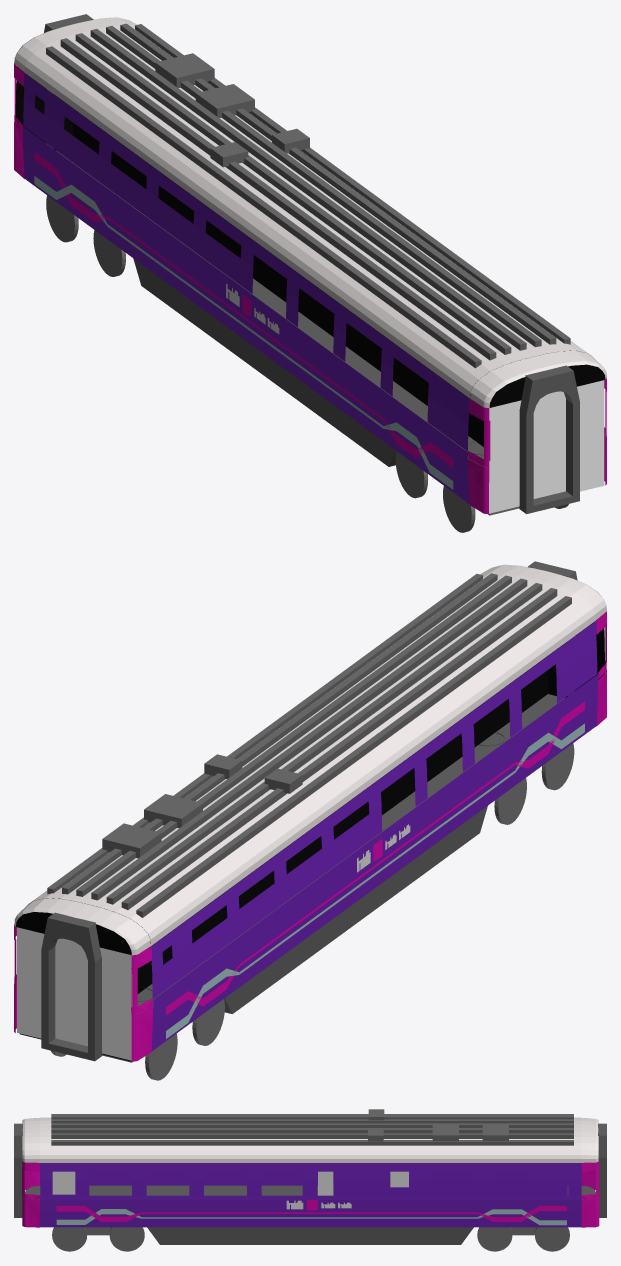
The model's file is br-mk3-trb-fgw3.dae.
3 renders of one model, top to bottom at view 1: azimuth 30°, elevation 25°; view 2: azimuth 150°, elevation 25°; view 3: azimuth 270°, elevation 25°, orthographic. The views are drawn at different scales.
Parts seen in each view (by area): view 1: Suzanne_001, Plane_007, Plane_001, Plane_111, Cube, Cube_011, Cube_008, Cube_010, Plane_173, Cube_009, Tube_003, Cube_004 (+19 smaller); view 2: Suzanne_001, Plane_007, Plane_100, Plane_111, Cube, Cube_011, Cube_008, Cube_010, Plane_173, Cube_009, Tube_002, Cube_004 (+18 smaller); view 3: Plane_134, Suzanne_001, Cube, Plane_172, Plane_007, Cube_003, Cube_004, Cube_002, Plane_159, Plane_135, Plane_136, Cube_009 (+33 smaller).
Boxes of the visible parts, x1,y1,x2,y2 form: Suzanne_001: [24, 24, 592, 398]; Plane_007: [23, 140, 469, 503]; Plane_001: [489, 380, 604, 513]; Plane_111: [73, 108, 483, 446]; Cube: [133, 258, 396, 466]; Cube_011: [46, 46, 481, 368]; Cube_008: [90, 29, 526, 350]; Cube_010: [60, 38, 496, 360]; Plane_173: [34, 108, 253, 293]; Cube_009: [75, 33, 511, 354]; Tube_003: [519, 365, 579, 514]; Cube_004: [106, 26, 541, 347]; Suzanne_001: [28, 572, 595, 945]; Plane_007: [151, 687, 597, 1051]; Plane_100: [17, 927, 132, 1060]; Plane_111: [134, 656, 547, 993]; Cube: [224, 806, 487, 1013]; Cube_011: [136, 596, 571, 917]; Cube_008: [91, 578, 527, 900]; Cube_010: [121, 588, 557, 909]; Plane_173: [163, 792, 382, 990]; Cube_009: [106, 583, 542, 904]; Tube_002: [41, 912, 102, 1061]; Cube_004: [76, 575, 511, 896]; Plane_134: [40, 1203, 581, 1227]; Suzanne_001: [40, 1117, 581, 1162]; Cube: [147, 1227, 473, 1244]; Plane_172: [333, 1171, 535, 1195]; Plane_007: [40, 1171, 568, 1185]; Cube_003: [51, 1140, 573, 1145]; Cube_004: [51, 1128, 573, 1133]; Cube_002: [51, 1133, 573, 1138]; Plane_159: [39, 1195, 581, 1199]; Plane_135: [40, 1163, 581, 1167]; Plane_136: [40, 1167, 581, 1171]; Cube_009: [51, 1119, 573, 1123].
Size of the model in its own units: 2.09 by 13.39 by 2.89.
